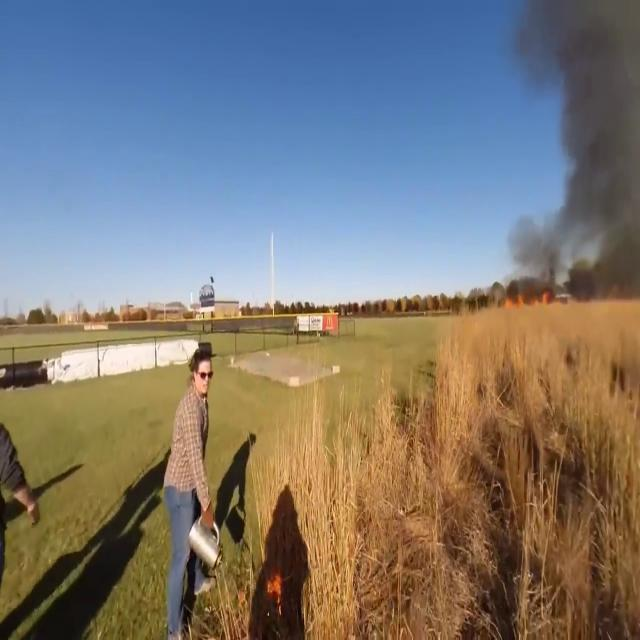Smoke: (500, 0, 640, 295)
